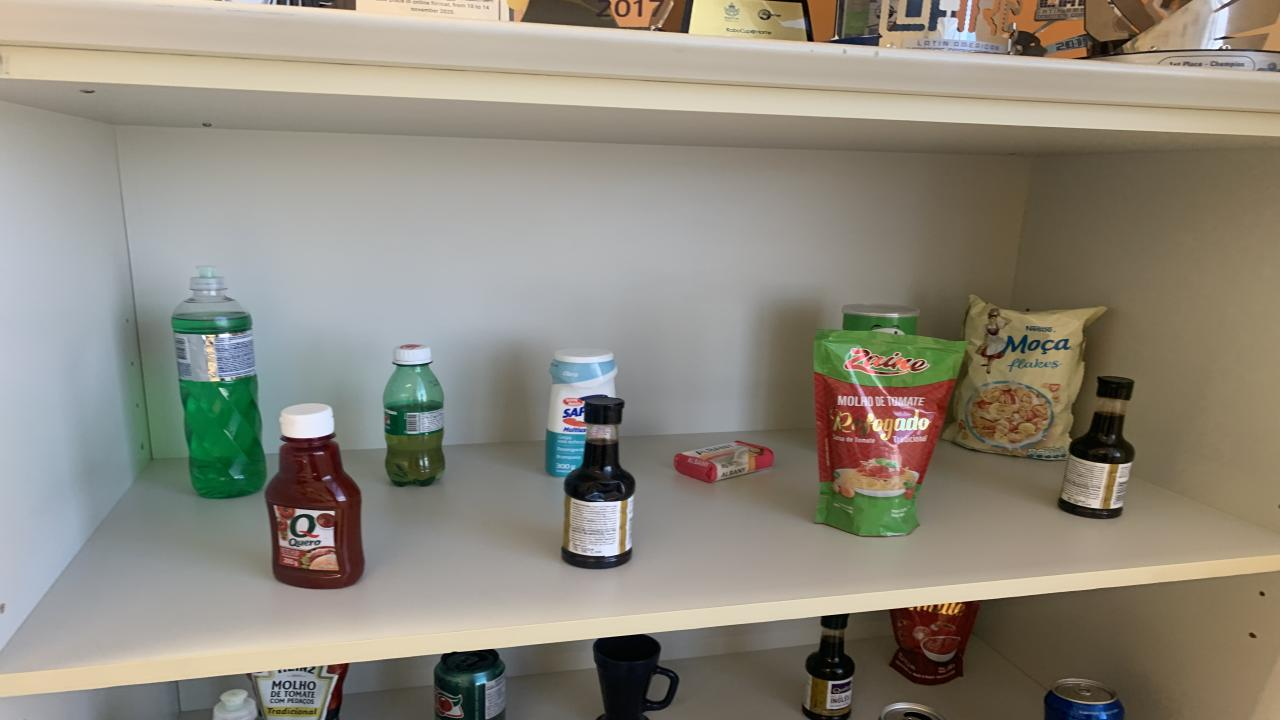Cleaner-Cleanup_Items: (545, 349, 618, 478)
Detergent-Cleanup_Items: (170, 266, 265, 497), (212, 690, 258, 720)
English_Sauce-Pantry_Items: (562, 396, 635, 568), (1058, 377, 1135, 519), (802, 615, 855, 720)
Flakes-Snacks: (942, 294, 1108, 459)
Guarana-Drinks: (382, 345, 445, 486)
Guarana_Can-Drinks: (435, 649, 505, 720)
Ketchup-Pantry_Items: (265, 403, 365, 589)
Pringles-Snacks: (842, 304, 920, 334)
Soap-Cleanup_Items: (672, 441, 775, 482)
Tomato_Sauce-Pantry_Items: (815, 330, 965, 536), (265, 405, 362, 581), (890, 602, 980, 684), (250, 664, 348, 720)
Tonic-Drinks: (1045, 679, 1125, 720)
